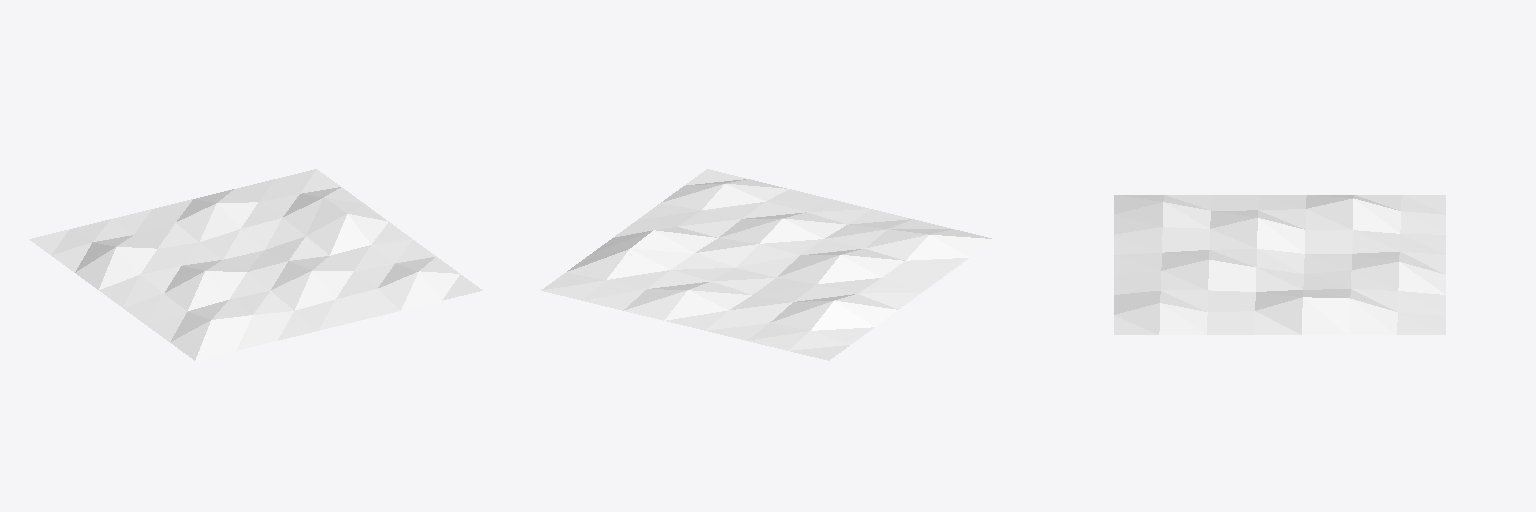
Rendered from desert.obj.
3 views of the same model, side by side, from view 1: azimuth 30°, elevation 25°; view 2: azimuth 150°, elevation 25°; view 3: azimuth 270°, elevation 25° (orthographic).
Bounding box in the file's own units: 10 × 0.5936 × 10.